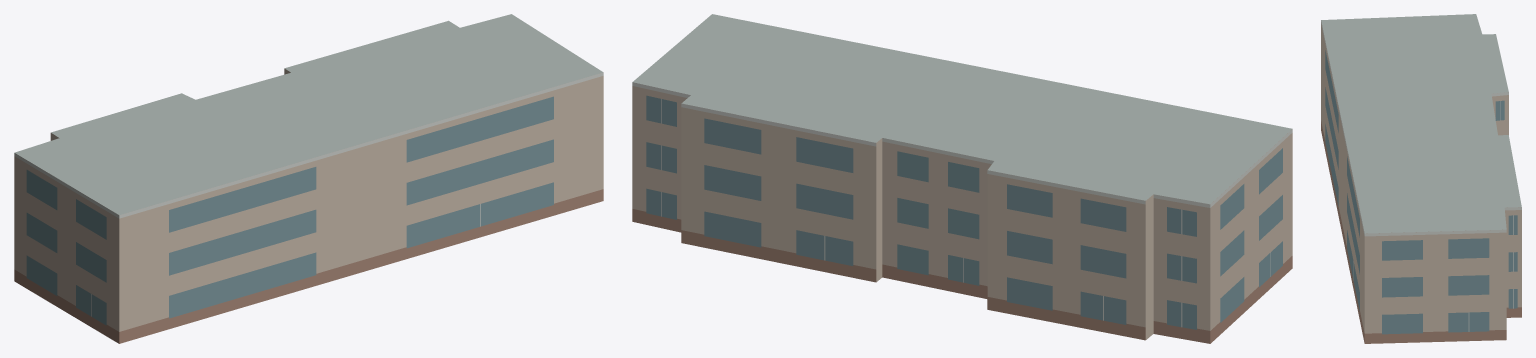
File: survey-upis-32869487.glb
The picture shows the model from 3 angles, left to right: view 1: azimuth 30°, elevation 25°; view 2: azimuth 150°, elevation 25°; view 3: azimuth 270°, elevation 25°; orthographic projection. The views are drawn at different scales.
Parts seen in each view (by area): view 1: survey-upis-32869487.tmp; view 2: survey-upis-32869487.tmp; view 3: survey-upis-32869487.tmp.
Part boxes in pixels (bbox=[...]): survey-upis-32869487.tmp: bbox=[14, 14, 603, 343]; survey-upis-32869487.tmp: bbox=[632, 14, 1292, 343]; survey-upis-32869487.tmp: bbox=[1321, 14, 1521, 343].
Bounding box in the file's own units: 39.02 × 9.15 × 15.09.
